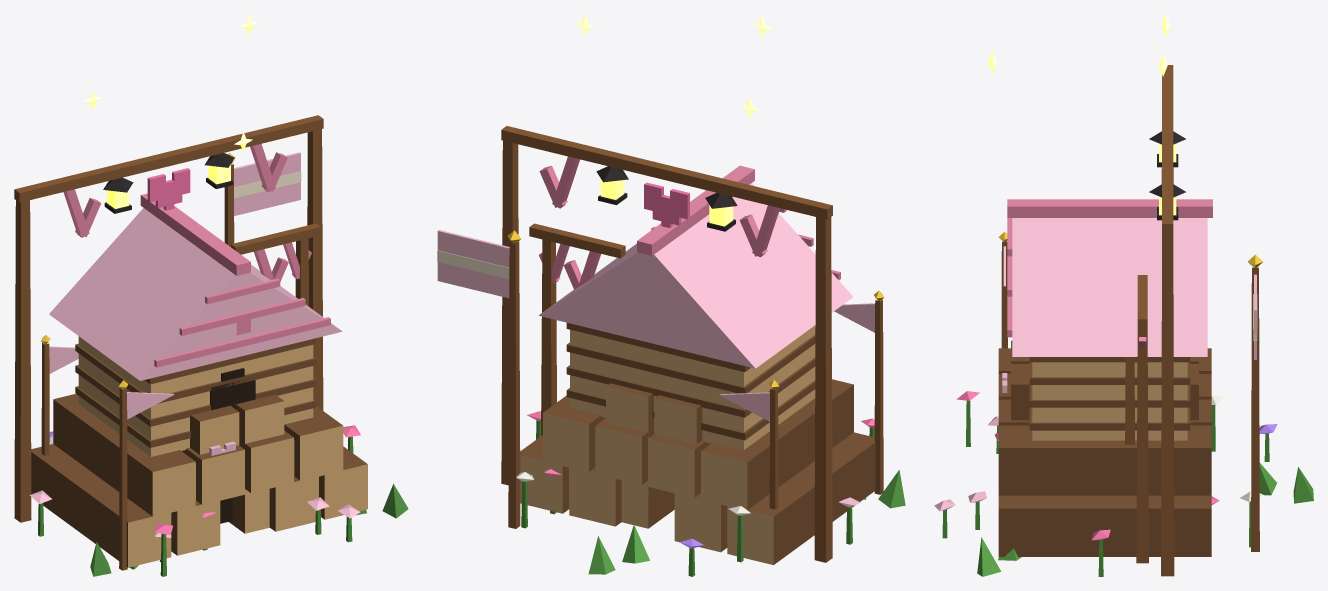
Rendered from opossum-woodpile-hollow-blocky.glb.
The picture shows the model from 3 angles, left to right: view 1: azimuth 30°, elevation 25°; view 2: azimuth 150°, elevation 25°; view 3: azimuth 270°, elevation 25°; orthographic projection. The views are drawn at different scales.
Parts seen in each view (by area): view 1: lv3, lv2; view 2: lv3, lv2; view 3: lv3, lv2, lv1.
Boxes of the visible parts, left/top/right/bottom form: lv3: left=14, top=14, right=408, bottom=576; lv2: left=41, top=223, right=366, bottom=569; lv3: left=437, top=14, right=905, bottom=576; lv2: left=529, top=223, right=865, bottom=563; lv3: left=934, top=14, right=1313, bottom=576; lv2: left=968, top=275, right=1276, bottom=563; lv1: left=994, top=357, right=1134, bottom=444.
Bounding box in the file's own units: 1.63 × 2.15 × 1.52.
